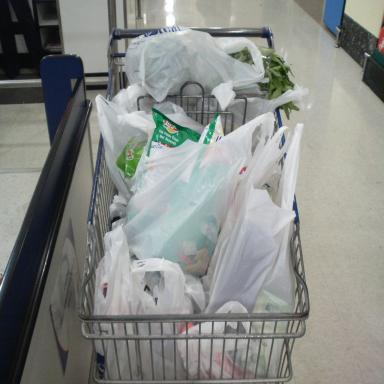plasticbag: (92, 24, 308, 384)
